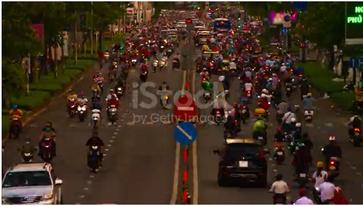car: (207, 135, 278, 190), (0, 158, 67, 206)
motorcycle: (316, 141, 346, 184), (4, 106, 28, 147), (83, 135, 105, 176), (293, 154, 314, 194), (233, 94, 254, 129), (37, 130, 56, 168), (18, 141, 40, 172), (103, 94, 122, 127), (250, 120, 266, 152), (345, 119, 363, 146), (86, 84, 104, 111), (240, 80, 257, 107), (302, 95, 316, 127), (223, 116, 236, 149), (114, 75, 127, 107), (88, 101, 100, 135), (65, 93, 80, 120), (158, 85, 172, 112), (212, 100, 224, 130), (76, 95, 87, 125), (203, 82, 213, 107), (137, 66, 150, 83)
